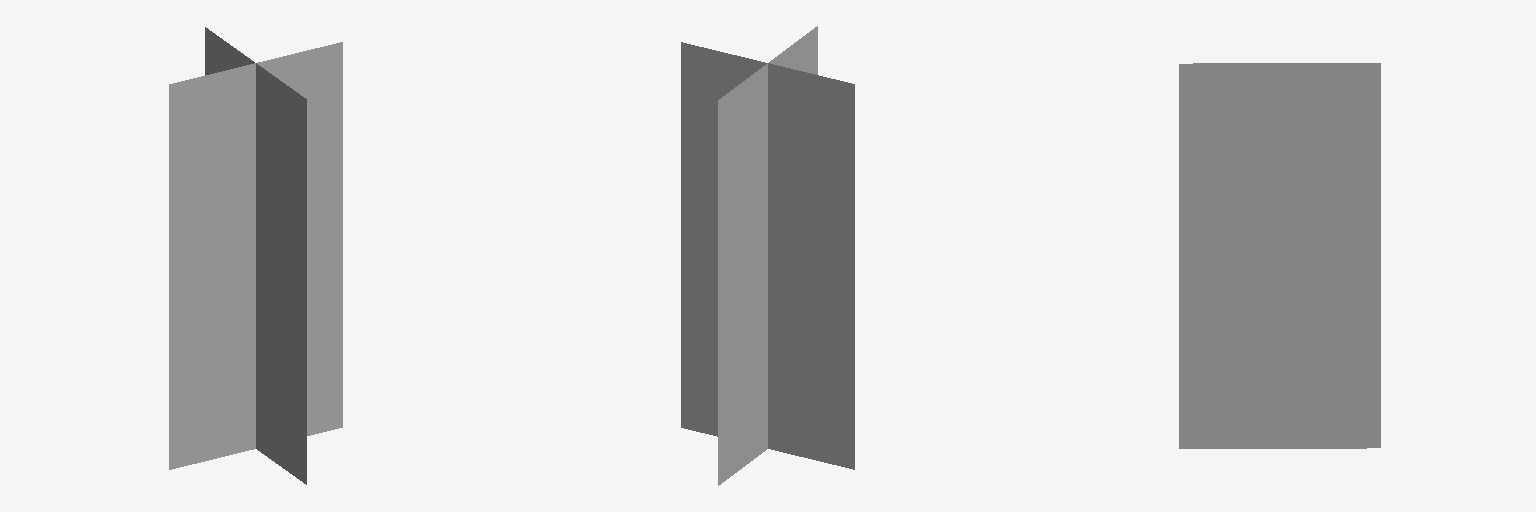
File: Pine.obj
The picture shows the model from 3 angles: view 1: azimuth 30°, elevation 25°; view 2: azimuth 150°, elevation 25°; view 3: azimuth 270°, elevation 25°; orthographic projection.
Parts seen in each view (by area): view 1: Plane.003; view 2: Plane.003; view 3: Plane.003.
Boxes of the visible parts, x1=… form: Plane.003: x1=169, y1=27, x2=342, y2=484; Plane.003: x1=681, y1=26, x2=854, y2=485; Plane.003: x1=1179, y1=63, x2=1380, y2=448.
Size of the model in its own units: 0.1935 by 0.4083 by 0.1935.